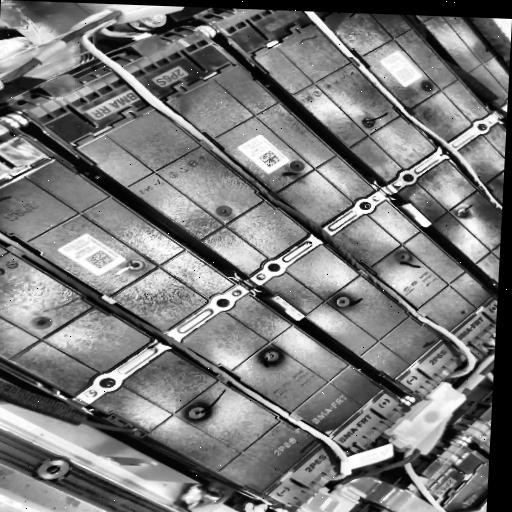busbar: (292, 474, 449, 512), (96, 376, 118, 391), (261, 262, 283, 274), (212, 296, 231, 309), (397, 173, 417, 184), (471, 122, 492, 132), (355, 201, 374, 212)
high_volt_cable: (0, 3, 479, 380), (0, 226, 362, 485), (289, 11, 503, 228)
